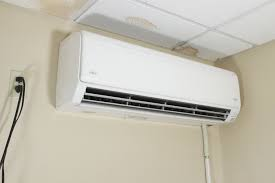ac: (53, 29, 245, 134)
